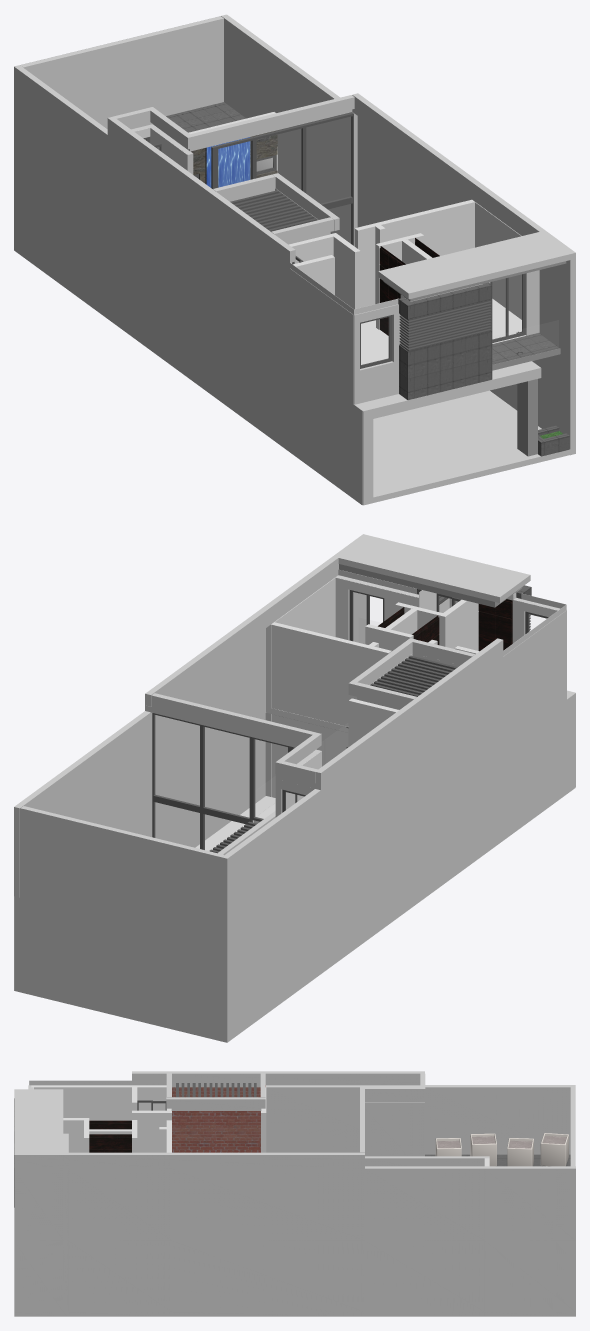
File: casa_opt.glb
3 views of the same model, one above another, from view 1: azimuth 30°, elevation 25°; view 2: azimuth 150°, elevation 25°; view 3: azimuth 270°, elevation 25° (orthographic). The views are drawn at different scales.
Parts seen in each view (by area): view 1: MuroExtBlanco_1, AluminioNegro_1, MuroInt_1_64, PisoExt_1_6, PisoExt_1, MuroInt_1_78, PisoInt_1, MuroInt_1_71, Cascada, PisoExt_2_9, PisoExt_1_6_1, MaderaNegra_1 (+4 smaller); view 2: MuroExtBlanco_1, MuroInt_1_64, AluminioNegro_1, MuroInt_1_78, MaderaNegra_1, MuroInt_1_68, MuroInt_1_21, MuroInt_1_73, MuroExtNegro_1_2, PisoInt_1, Cubo_5, MuroInt_1_46 (+3 smaller); view 3: MuroExtBlanco_1, Tabique_1, MuroInt_1_69, Barro_1, MaderaNegra_1, MuroInt_1_71, Tierra_1, Cubo_3, MuroInt_1_75, MuroInt_1_68, Cubo_2, PisoExt_1.
Boxes of the visible parts, left/top/right/bottom form: MuroExtBlanco_1: left=14, top=14, right=575, bottom=505; AluminioNegro_1: left=143, top=112, right=525, bottom=368; MuroInt_1_64: left=354, top=200, right=474, bottom=307; PisoExt_1_6: left=408, top=331, right=492, bottom=399; PisoExt_1: left=145, top=102, right=559, bottom=364; MuroInt_1_78: left=472, top=200, right=521, bottom=319; PisoInt_1: left=361, top=298, right=526, bottom=364; MuroInt_1_71: left=333, top=235, right=360, bottom=309; Cascada: left=206, top=137, right=250, bottom=187; PisoExt_2_9: left=517, top=379, right=537, bottom=456; PisoExt_1_6_1: left=408, top=284, right=492, bottom=319; MaderaNegra_1: left=379, top=238, right=439, bottom=335; MuroExtBlanco_1: left=14, top=534, right=575, bottom=1042; MuroInt_1_64: left=271, top=622, right=391, bottom=726; AluminioNegro_1: left=152, top=590, right=548, bottom=849; MuroInt_1_78: left=266, top=577, right=335, bottom=713; MaderaNegra_1: left=378, top=599, right=512, bottom=651; MuroInt_1_68: left=440, top=599, right=478, bottom=650; MuroInt_1_21: left=271, top=714, right=348, bottom=797; MuroInt_1_73: left=348, top=698, right=398, bottom=746; MuroExtNegro_1_2: left=339, top=564, right=521, bottom=607; PisoInt_1: left=195, top=796, right=275, bottom=851; Cubo_5: left=146, top=705, right=300, bottom=747; MuroInt_1_46: left=335, top=577, right=348, bottom=639; MuroExtBlanco_1: left=14, top=1071, right=575, bottom=1316; Tabique_1: left=172, top=1085, right=265, bottom=1152; MuroInt_1_69: left=31, top=1085, right=131, bottom=1120; Barro_1: left=435, top=1133, right=568, bottom=1166; MaderaNegra_1: left=89, top=1120, right=131, bottom=1152; MuroInt_1_71: left=132, top=1110, right=166, bottom=1152; Tierra_1: left=437, top=1136, right=566, bottom=1148; Cubo_3: left=29, top=1080, right=166, bottom=1085; MuroInt_1_75: left=132, top=1085, right=166, bottom=1110; MuroInt_1_68: left=63, top=1118, right=89, bottom=1152; Cubo_2: left=265, top=1083, right=420, bottom=1085; PisoExt_1: left=425, top=1154, right=570, bottom=1166.
Size of the model in its own units: 0.1406 by 0.1268 by 0.3991.
18 materials, 9 textured.
